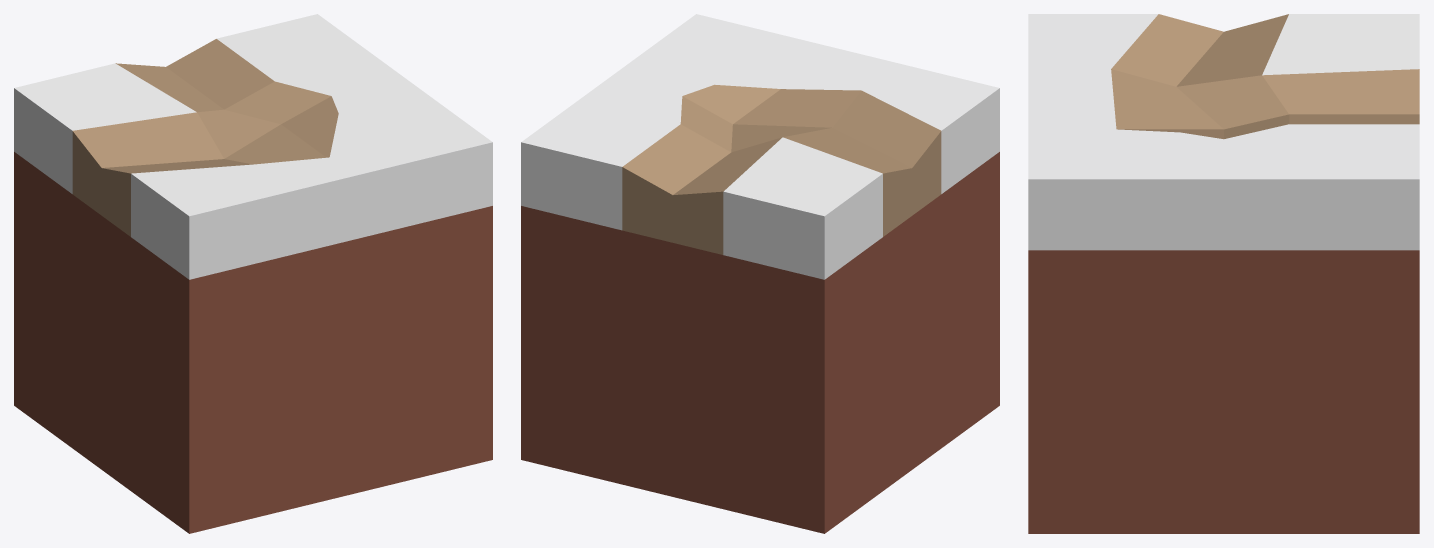
The model's file is Mesh_Ground_Road_Corner.glb.
3 views of the same model, side by side, from view 1: azimuth 30°, elevation 25°; view 2: azimuth 150°, elevation 25°; view 3: azimuth 270°, elevation 25° (orthographic). The views are drawn at different scales.
Visible parts, largest first — view 1: Mesh_Ground_Road_Corner; view 2: Mesh_Ground_Road_Corner; view 3: Mesh_Ground_Road_Corner.
Part boxes in pixels (left/top/right/bottom): Mesh_Ground_Road_Corner: left=14, top=14, right=492, bottom=533; Mesh_Ground_Road_Corner: left=521, top=14, right=999, bottom=533; Mesh_Ground_Road_Corner: left=1028, top=14, right=1419, bottom=533.
Bounding box in the file's own units: 2 × 2 × 2.
1 material, 1 textured.
